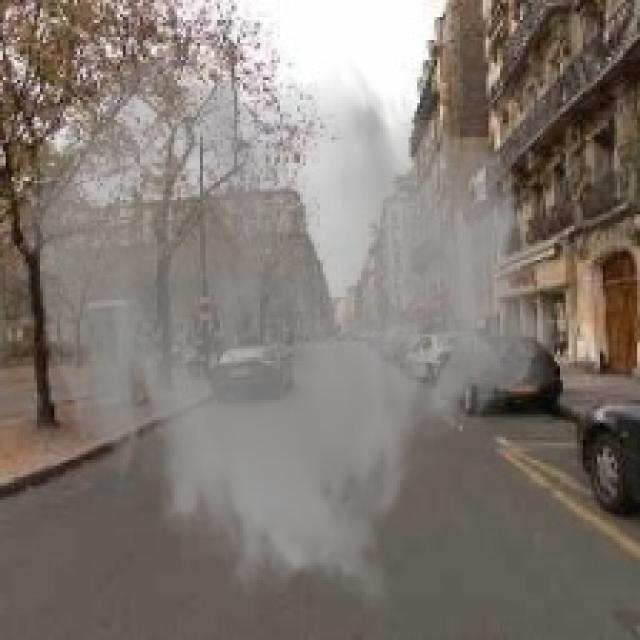Smoke: (11, 46, 560, 612)
